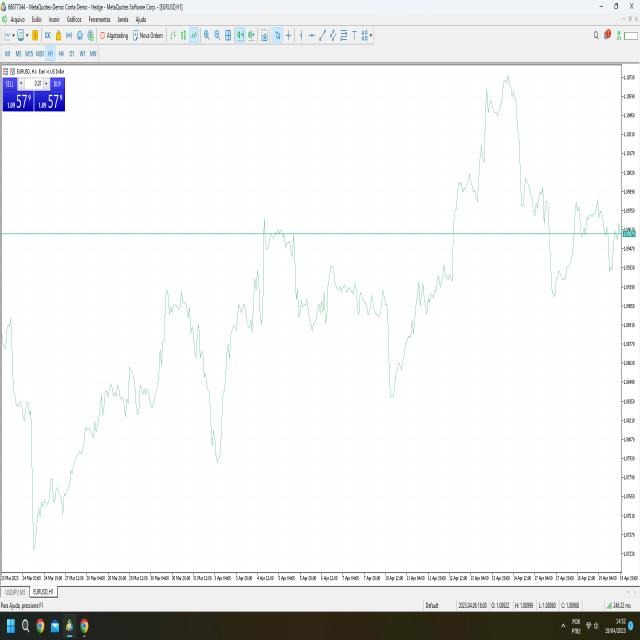bandeira_alta: (449, 168, 477, 296)
oco_inv: (163, 274, 258, 472)
